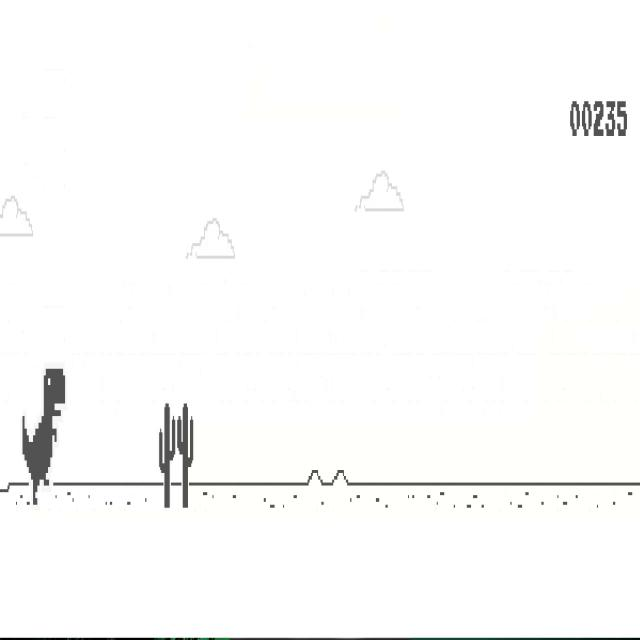cacto: (158, 402, 176, 510), (177, 402, 194, 509)
dino: (22, 368, 66, 506)
